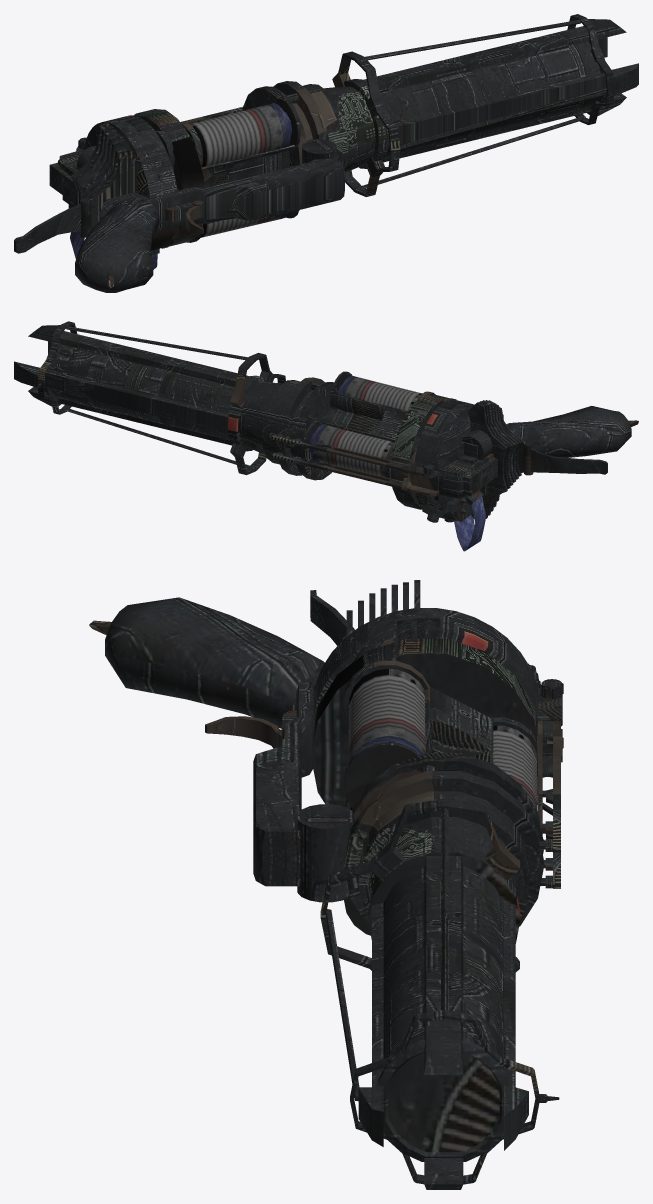
Rendered from t5_weapon_freeze_gun_v2_world.glb.
3 renders of one model, top to bottom at view 1: azimuth 30°, elevation 25°; view 2: azimuth 150°, elevation 25°; view 3: azimuth 270°, elevation 25°, orthographic. The views are drawn at different scales.
Visible parts, largest first — view 1: t5_weapon_freeze_gun_v2_world; view 2: t5_weapon_freeze_gun_v2_world; view 3: t5_weapon_freeze_gun_v2_world.
Boxes of the visible parts, box(x1,y1,x2,y2) form: t5_weapon_freeze_gun_v2_world: box(14, 14, 638, 292); t5_weapon_freeze_gun_v2_world: box(14, 321, 638, 551); t5_weapon_freeze_gun_v2_world: box(89, 580, 563, 1189).
Size of the model in its own units: 0.4892 by 0.1222 by 0.1841.
2 materials, 2 textured.
